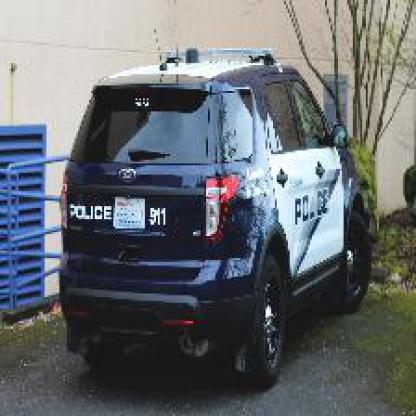emergency: (52, 43, 377, 392)
